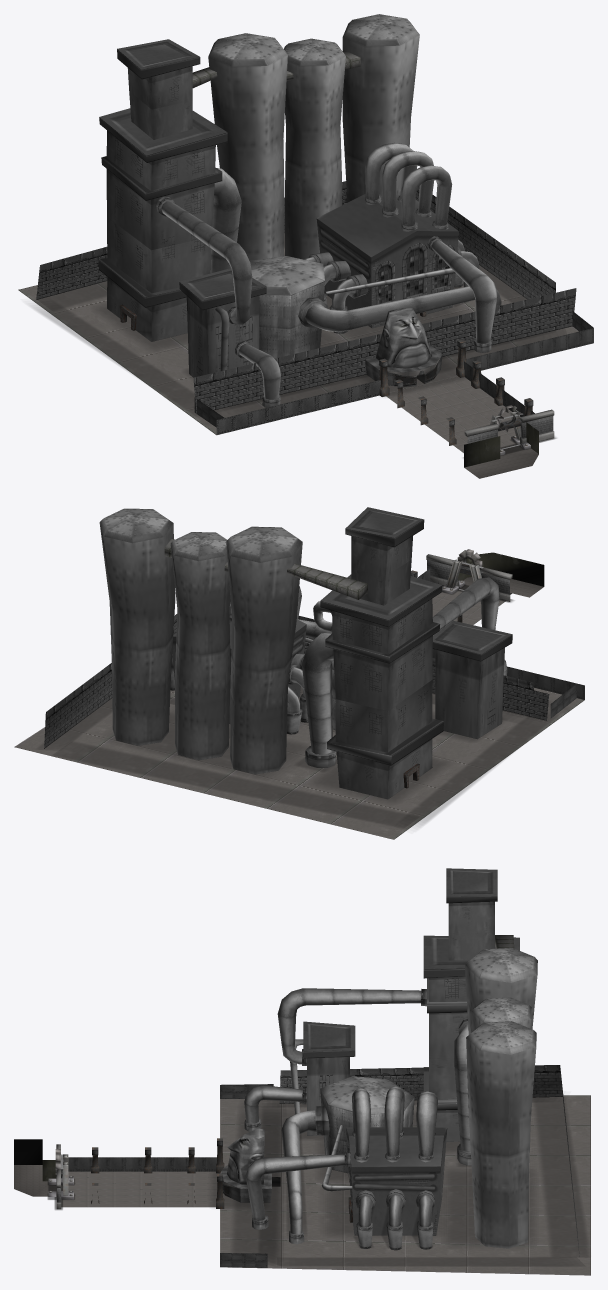
The model's file is sellbot_factory_exterior.glb.
3 renders of one model, top to bottom at view 1: azimuth 30°, elevation 25°; view 2: azimuth 150°, elevation 25°; view 3: azimuth 270°, elevation 25°, orthographic. The views are drawn at different scales.
Visible parts, largest first — view 1: FootFactoryBldng1, wall, FootFactoryTallTank3, polySurface387, FootFactoryTallTank2, FootFactoryTallTank1, FootFactoryMainBldg, FootFactoryShortTank, FootFactoryBldng2, path_floor, Head, FootFactoryPipe9a (+20 smaller); view 2: FootFactoryBldng1, polySurface387, FootFactoryTallTank3, FootFactoryTallTank1, FootFactoryTallTank2, FootFactoryBldng2, polySurface364, wall, FootFactoryPipe4, polySurface356, FootFactoryPipe7a, s_tunnel_walls (+9 smaller); view 3: polySurface387, FootFactoryTallTank1, FootFactoryBldng1, FootFactoryMainBldg, path_floor, polySurface364, FootFactoryTallTank3, FootFactoryShortTank, FootFactoryBldng2, FootFactoryPipe7a, wall, polySurface371 (+20 smaller).
Boxes of the visible parts, x1,y1,x2,y2 form: FootFactoryBldng1: (98,39,227,341); wall: (36,181,576,413); FootFactoryTallTank3: (208,33,287,260); polySurface387: (18,233,578,434); FootFactoryTallTank2: (284,38,345,259); FootFactoryTallTank1: (342,14,419,202); FootFactoryMainBldg: (316,194,458,328); FootFactoryShortTank: (249,256,324,358); FootFactoryBldng2: (179,268,266,377); path_floor: (386,376,516,452); Head: (365,308,442,386); FootFactoryPipe9a: (298,286,501,331); FootFactoryBldng1: (320,507,443,799); polySurface387: (14,687,584,839); FootFactoryTallTank3: (226,526,302,774); FootFactoryTallTank1: (99,508,175,745); FootFactoryTallTank2: (170,532,230,760); FootFactoryBldng2: (432,620,512,739); polySurface364: (54,742,416,827); wall: (44,614,549,748); FootFactoryPipe4: (302,632,336,767); polySurface356: (405,717,549,825); FootFactoryPipe7a: (432,577,499,635); s_tunnel_walls: (458,552,544,586); polySurface387: (220,1095,590,1275); FootFactoryTallTank1: (466,1021,536,1248); FootFactoryBldng1: (423,868,519,1141); FootFactoryMainBldg: (346,1127,447,1235); path_floor: (61,1171,219,1207); polySurface364: (535,1097,587,1257); FootFactoryTallTank3: (465,948,537,1034); FootFactoryShortTank: (320,1076,414,1173); FootFactoryBldng2: (303,1021,355,1135); FootFactoryPipe7a: (277,988,426,1065); wall: (279,1065,579,1256); polySurface371: (233,1109,279,1264).
Bounding box in the file's own units: 420 × 262 × 547.
Materials: 29 (29 with a texture image).
